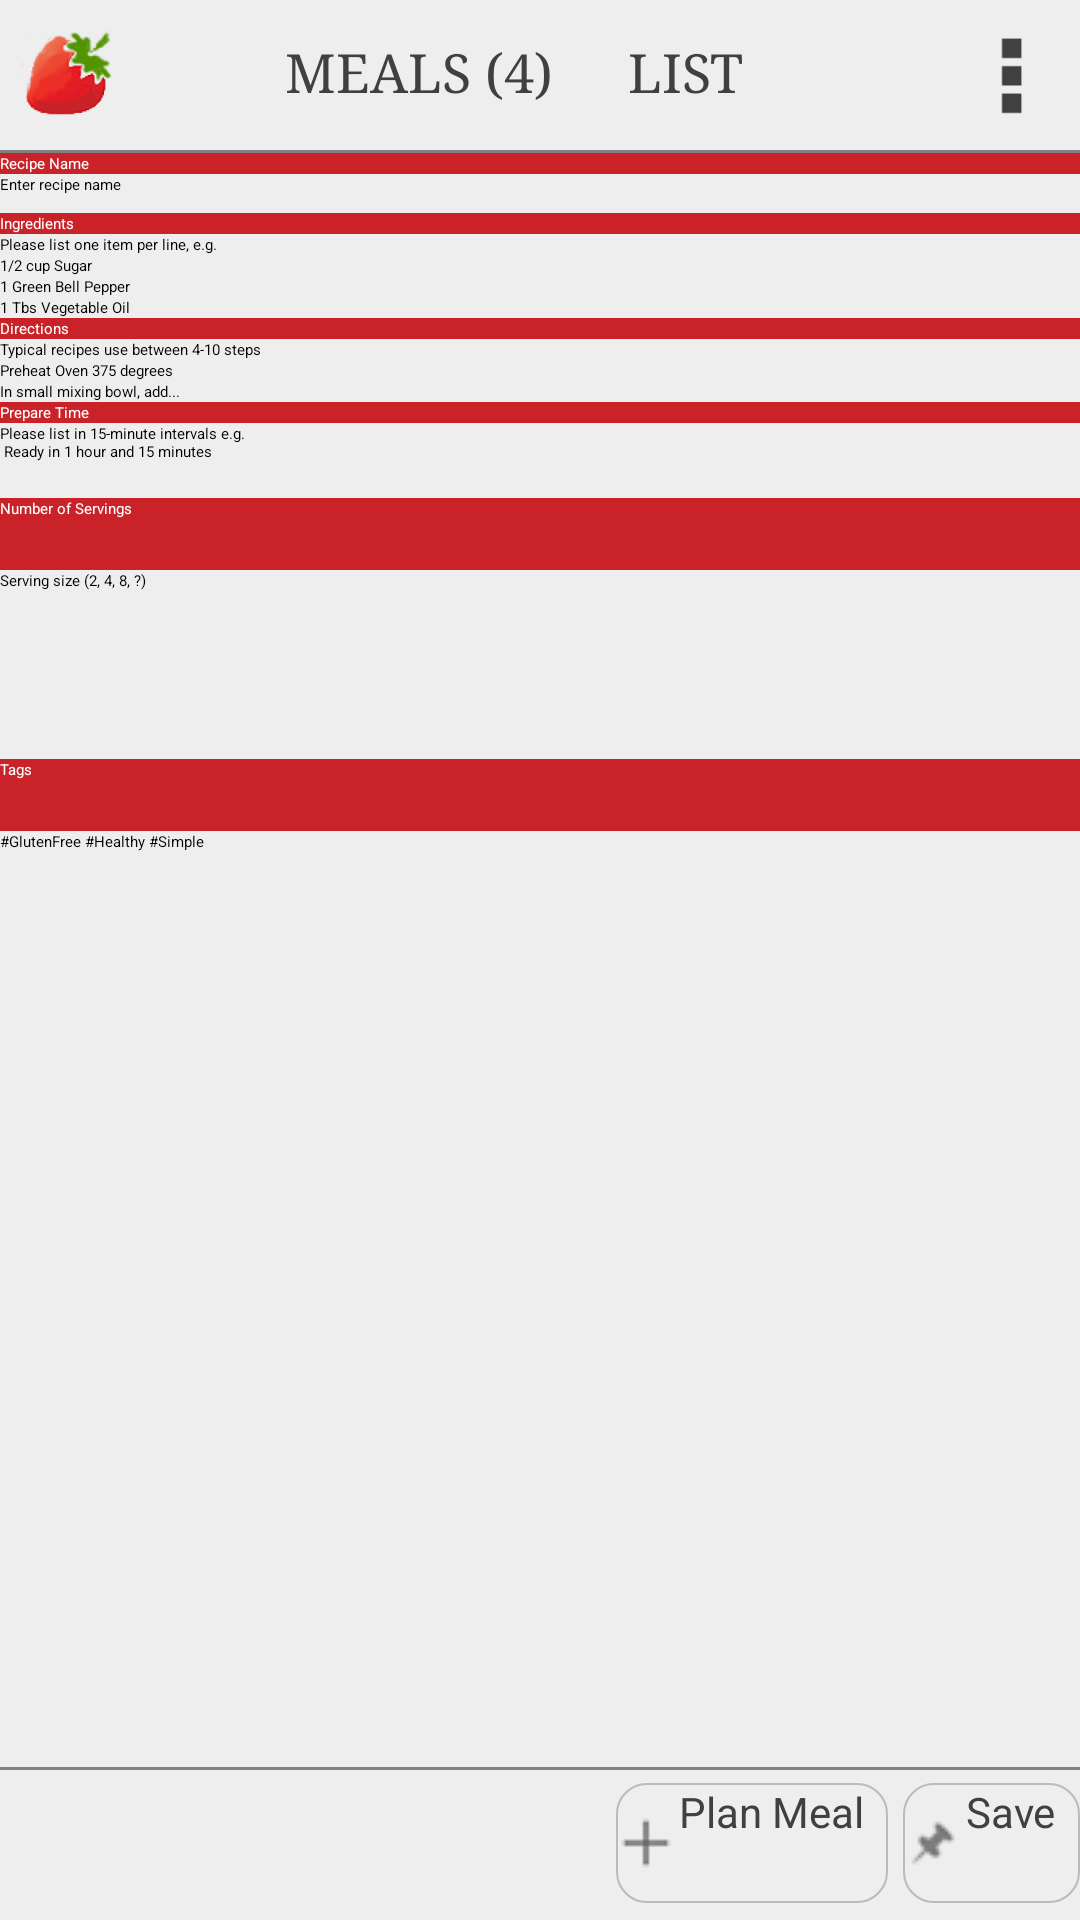

Screen size 1080x1920. Icon name, then its center in pixels as (x=x, y=y):
options: (x=1011, y=76)
